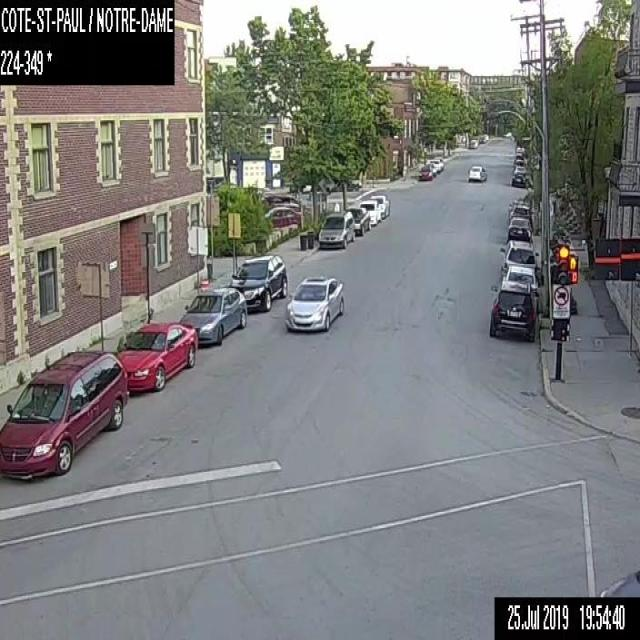vehicle: (0, 350, 127, 480), (117, 322, 196, 392), (178, 286, 247, 346), (284, 275, 344, 331), (229, 254, 287, 310), (488, 280, 537, 342), (318, 210, 354, 248), (498, 239, 538, 268), (500, 264, 538, 294), (264, 206, 301, 227), (345, 207, 370, 235), (507, 216, 531, 240), (358, 200, 381, 224), (370, 194, 389, 218), (509, 204, 530, 221), (468, 165, 486, 181), (508, 198, 532, 208), (418, 163, 432, 180), (346, 178, 361, 191), (511, 172, 524, 186), (428, 159, 439, 173), (428, 162, 436, 176), (514, 165, 524, 173), (514, 159, 524, 167), (469, 138, 477, 148), (514, 152, 522, 160), (439, 157, 444, 169), (515, 146, 524, 152), (479, 135, 485, 143), (502, 132, 511, 137), (483, 134, 488, 140)
